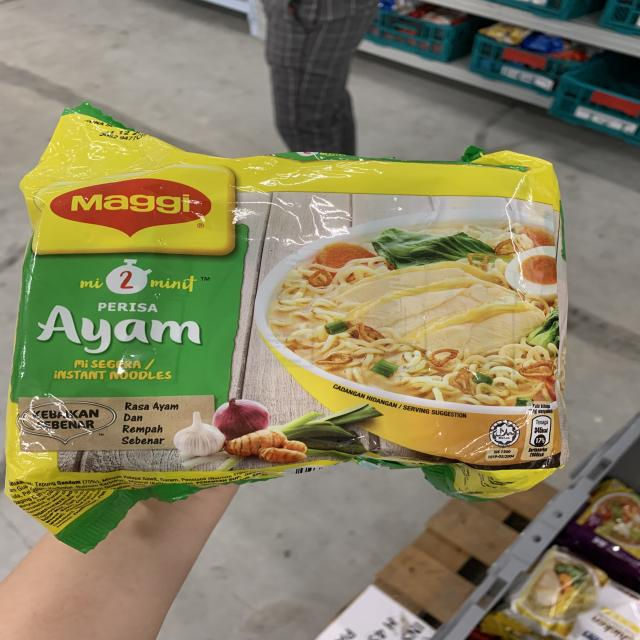object_name: (36, 144, 563, 488)
